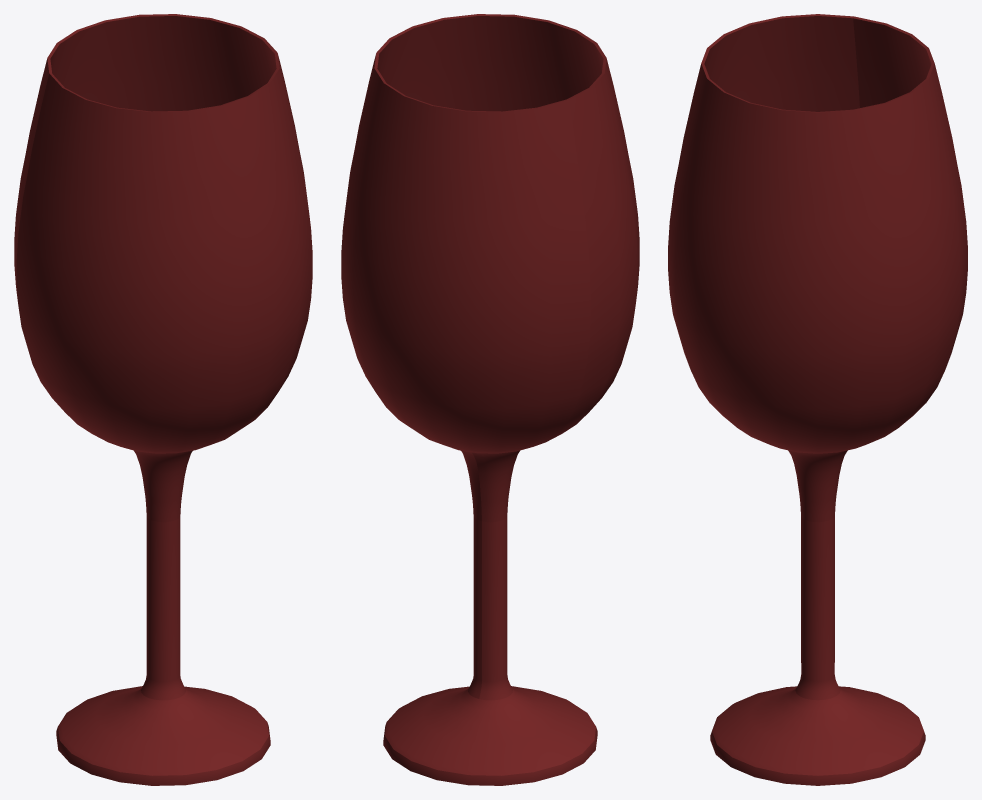
File: WineGlass.fbx
3 renders of one model, left to right at view 1: azimuth 30°, elevation 25°; view 2: azimuth 150°, elevation 25°; view 3: azimuth 270°, elevation 25°, orthographic.
Parts seen in each view (by area): view 1: WhineBottle; view 2: WhineBottle; view 3: WhineBottle.
Boxes of the visible parts, x1,y1,x2,y2 form: WhineBottle: (14, 14, 312, 785); WhineBottle: (341, 14, 639, 785); WhineBottle: (668, 14, 967, 785).
Bounding box in the file's own units: 0.085 × 0.2118 × 0.085.
